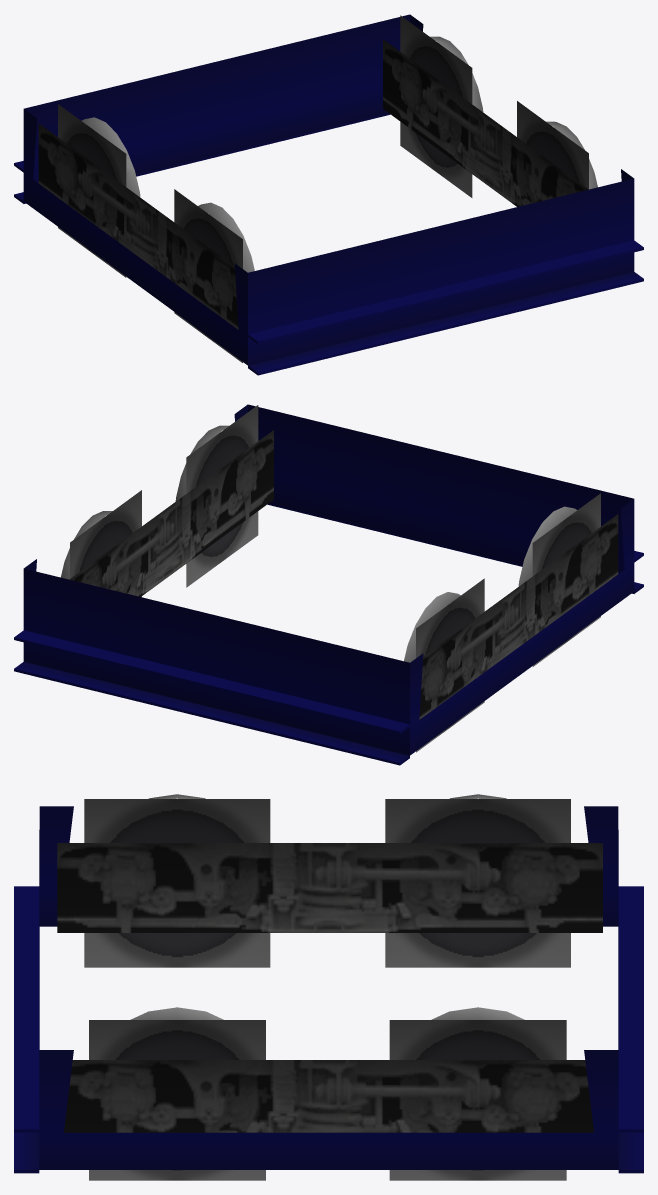
Rendered from TRACK_DEKI.glb.
The picture shows the model from 3 angles, top to bottom: view 1: azimuth 30°, elevation 25°; view 2: azimuth 150°, elevation 25°; view 3: azimuth 270°, elevation 25°; orthographic projection. The views are drawn at different scales.
Parts seen in each view (by area): view 1: obj4; view 2: obj4; view 3: obj4.
Boxes of the visible parts, x1,y1,x2,y2 form: obj4: [14, 14, 643, 375]; obj4: [14, 404, 643, 765]; obj4: [14, 794, 643, 1180].
Size of the model in its own units: 5.19 by 1.68 by 5.68.
Materials: 4 (4 with a texture image).
